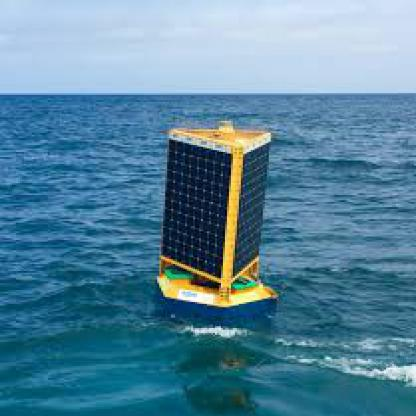buoy: (145, 112, 287, 314)
